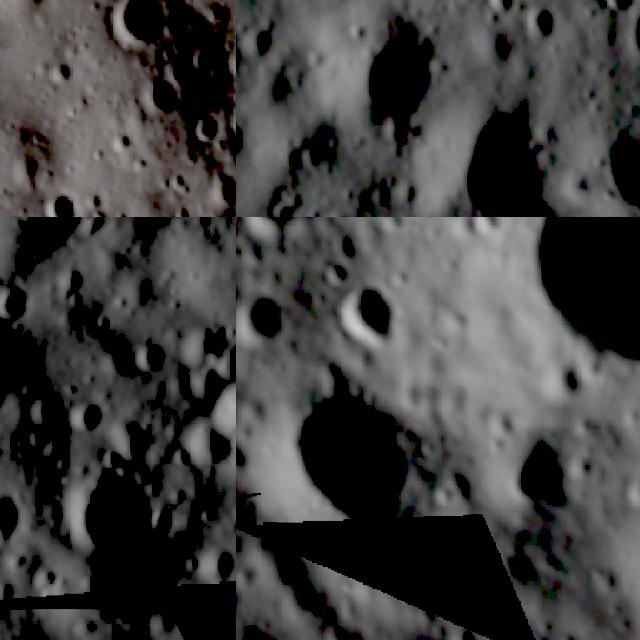crater: (258, 374, 424, 540), (506, 217, 640, 361), (329, 4, 454, 144), (56, 458, 170, 572), (436, 107, 553, 217), (482, 416, 587, 516), (344, 260, 398, 356), (542, 341, 598, 410), (16, 376, 76, 438), (102, 409, 159, 471), (247, 268, 284, 359), (106, 0, 171, 50), (120, 328, 178, 384), (177, 306, 236, 361), (66, 389, 121, 446), (518, 0, 570, 56), (206, 367, 236, 455), (0, 474, 35, 549), (192, 532, 236, 591), (613, 0, 640, 92), (136, 74, 185, 124), (0, 271, 42, 328), (162, 48, 208, 95), (577, 552, 628, 594), (182, 108, 225, 155), (41, 184, 92, 217), (259, 187, 313, 217), (204, 162, 236, 210), (590, 0, 640, 30), (236, 217, 308, 237), (42, 51, 80, 88), (610, 470, 640, 514), (456, 217, 500, 246), (524, 607, 561, 640), (8, 217, 66, 238), (404, 570, 442, 601), (476, 0, 521, 26), (442, 302, 475, 336), (216, 336, 236, 392), (236, 116, 257, 167), (319, 257, 356, 285), (315, 199, 369, 217), (236, 572, 250, 624), (440, 484, 462, 513), (451, 623, 485, 640), (322, 623, 353, 640), (559, 624, 583, 640)
